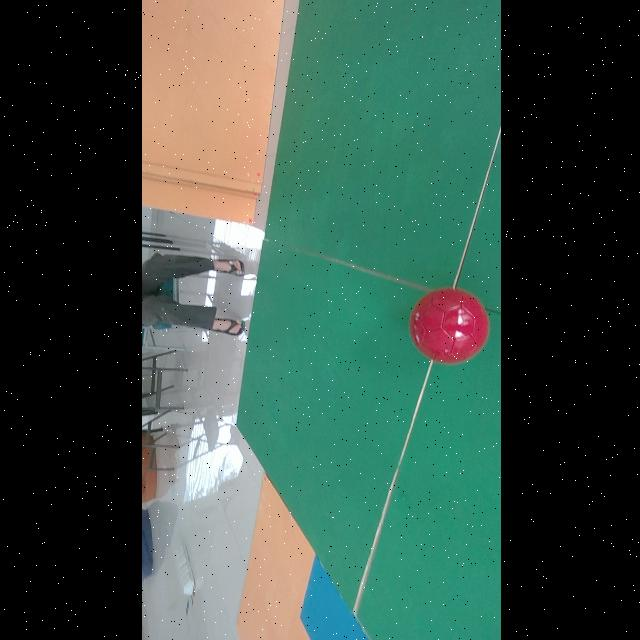R: (407, 288, 487, 363)
